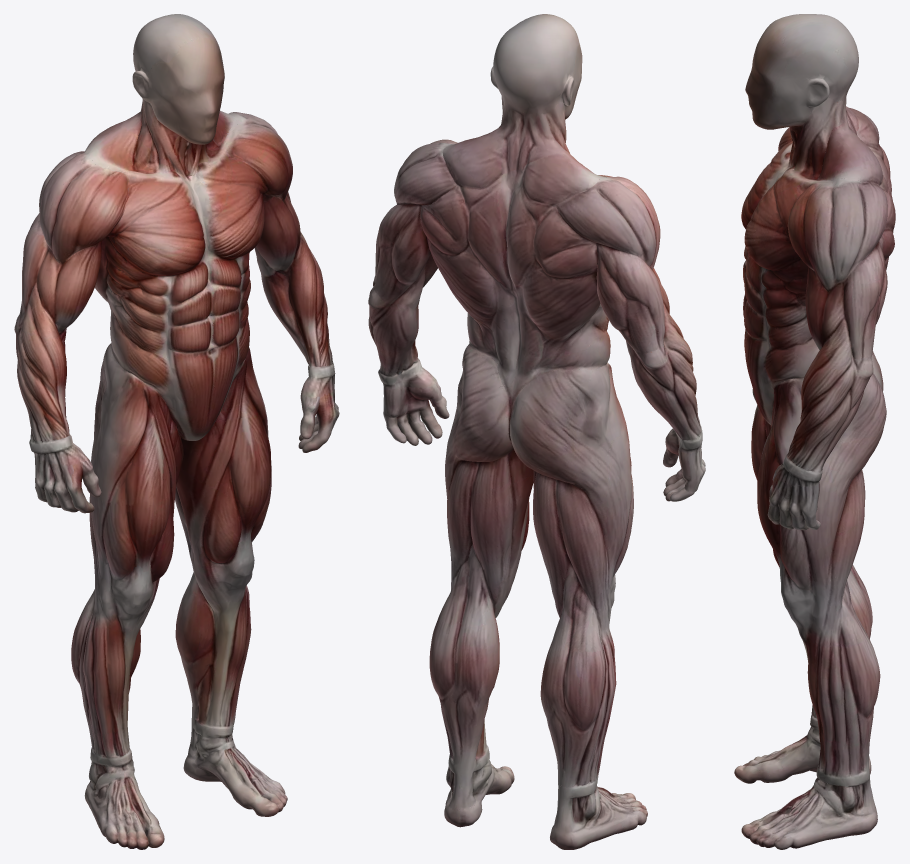
The model's file is rambutan-opt.glb.
The picture shows the model from 3 angles, left to right: view 1: azimuth 30°, elevation 25°; view 2: azimuth 150°, elevation 25°; view 3: azimuth 270°, elevation 25°; orthographic projection.
Visible parts, largest first — view 1: tripo_part_0, tripo_part_2, tripo_part_1, tripo_part_5, tripo_part_6, tripo_part_4, tripo_part_10, tripo_part_7, tripo_part_3, tripo_part_8, tripo_part_11, tripo_part_12 (+1 smaller); view 2: tripo_part_0, tripo_part_2, tripo_part_1, tripo_part_5, tripo_part_6, tripo_part_4, tripo_part_10, tripo_part_3, tripo_part_9, tripo_part_7, tripo_part_11, tripo_part_8 (+1 smaller); view 3: tripo_part_1, tripo_part_0, tripo_part_4, tripo_part_6, tripo_part_7, tripo_part_8, tripo_part_9, tripo_part_3, tripo_part_12, tripo_part_2.
Part boxes in pixels (x1=…): tripo_part_0: x1=84, y1=99, x2=267, y2=440; tripo_part_2: x1=71, y1=343, x2=183, y2=756; tripo_part_1: x1=175, y1=347, x2=271, y2=759; tripo_part_5: x1=20, y1=151, x2=128, y2=334; tripo_part_6: x1=132, y1=14, x2=224, y2=144; tripo_part_4: x1=223, y1=112, x2=300, y2=276; tripo_part_10: x1=14, y1=284, x2=69, y2=442; tripo_part_7: x1=254, y1=231, x2=333, y2=366; tripo_part_3: x1=84, y1=747, x2=164, y2=849; tripo_part_8: x1=183, y1=734, x2=287, y2=816; tripo_part_11: x1=29, y1=433, x2=101, y2=513; tripo_part_12: x1=132, y1=99, x2=219, y2=178; tripo_part_0: x1=420, y1=104, x2=610, y2=414; tripo_part_2: x1=508, y1=362, x2=633, y2=787; tripo_part_1: x1=429, y1=344, x2=533, y2=810; tripo_part_5: x1=557, y1=175, x2=669, y2=360; tripo_part_6: x1=490, y1=14, x2=582, y2=119; tripo_part_4: x1=374, y1=139, x2=457, y2=308; tripo_part_10: x1=626, y1=303, x2=701, y2=440; tripo_part_3: x1=550, y1=772, x2=647, y2=849; tripo_part_9: x1=378, y1=358, x2=449, y2=445; tripo_part_7: x1=368, y1=261, x2=427, y2=376; tripo_part_11: x1=663, y1=425, x2=705, y2=501; tripo_part_8: x1=444, y1=760, x2=514, y2=827; tripo_part_1: x1=757, y1=373, x2=886, y2=815; tripo_part_0: x1=741, y1=98, x2=895, y2=425; tripo_part_4: x1=787, y1=178, x2=887, y2=359; tripo_part_6: x1=745, y1=14, x2=858, y2=129; tripo_part_7: x1=787, y1=320, x2=873, y2=472; tripo_part_8: x1=741, y1=778, x2=877, y2=849; tripo_part_9: x1=767, y1=454, x2=822, y2=530; tripo_part_3: x1=734, y1=715, x2=871, y2=783; tripo_part_12: x1=788, y1=97, x2=837, y2=179; tripo_part_2: x1=751, y1=351, x2=883, y2=718.
Bounding box in the file's own units: 0.41 × 0.9999 × 0.1845.
1 material, 1 textured.
